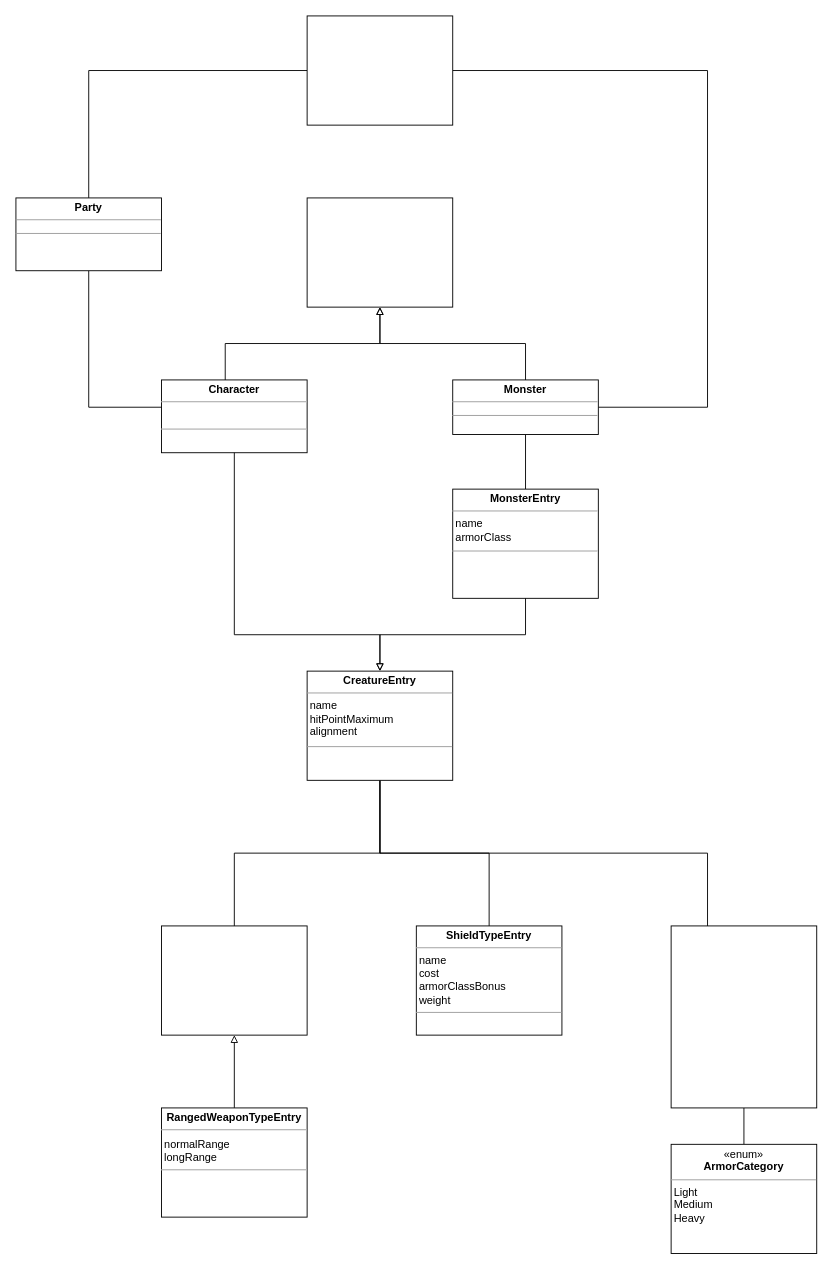
Some shapes in this 833 by 1269 pixel diagram are drawn without their labels. Here are the shapes that lost their labels. From the top down, the centre of each, then its label:
At point (379, 70): "Battle asdf Simulate() Flee()".
At point (379, 252): "Creature hitPoints".
At point (234, 980): "WeaponTypeEntry name cost damage weight".
At point (743, 1016): "ArmorTypeEntry name cost armorClass minimumStrength weight".
